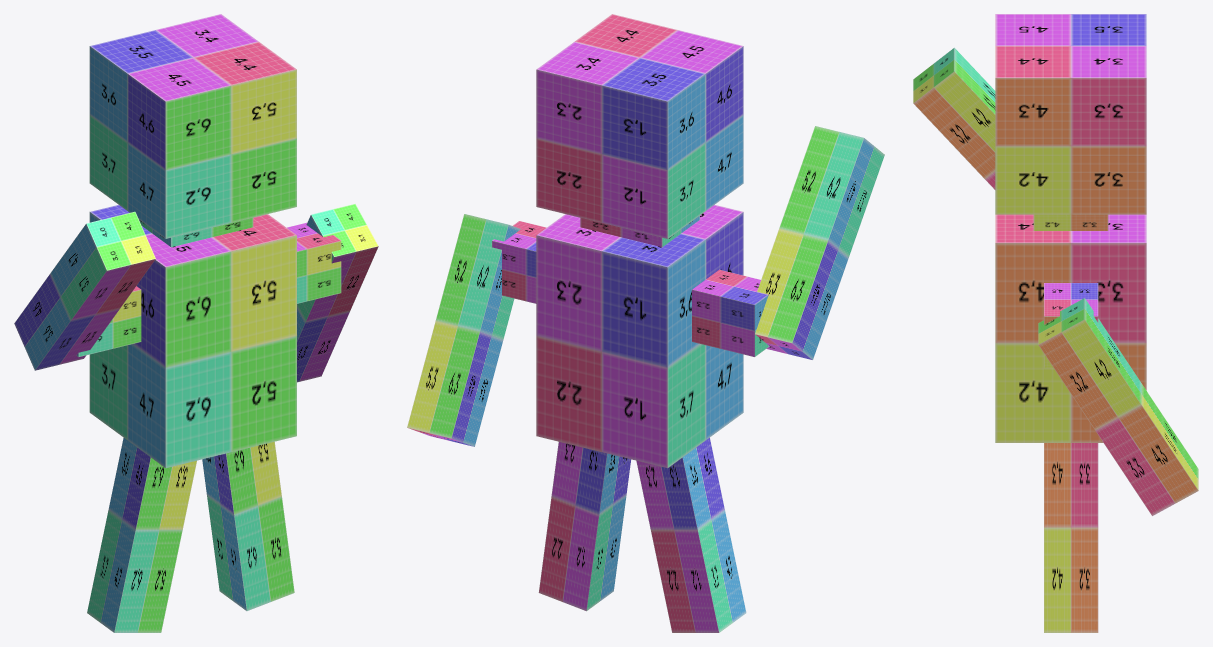
File: titlePlayer.obj
3 views of the same model, side by side, from view 1: azimuth 30°, elevation 25°; view 2: azimuth 150°, elevation 25°; view 3: azimuth 270°, elevation 25° (orthographic).
Visible parts, largest first — view 1: Cube.007; view 2: Cube.007; view 3: Cube.007.
Part boxes in pixels (x1,y1,x2,y2): Cube.007: [14, 14, 378, 632]; Cube.007: [407, 14, 884, 632]; Cube.007: [913, 14, 1198, 632].
Bounding box in the file's own units: 5.09 × 8.06 × 3.78.
9 materials, 9 textured.
